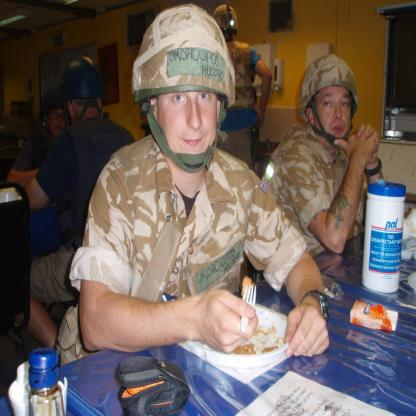Helmet: (132, 12, 236, 180), (300, 51, 360, 150), (63, 56, 104, 126)
